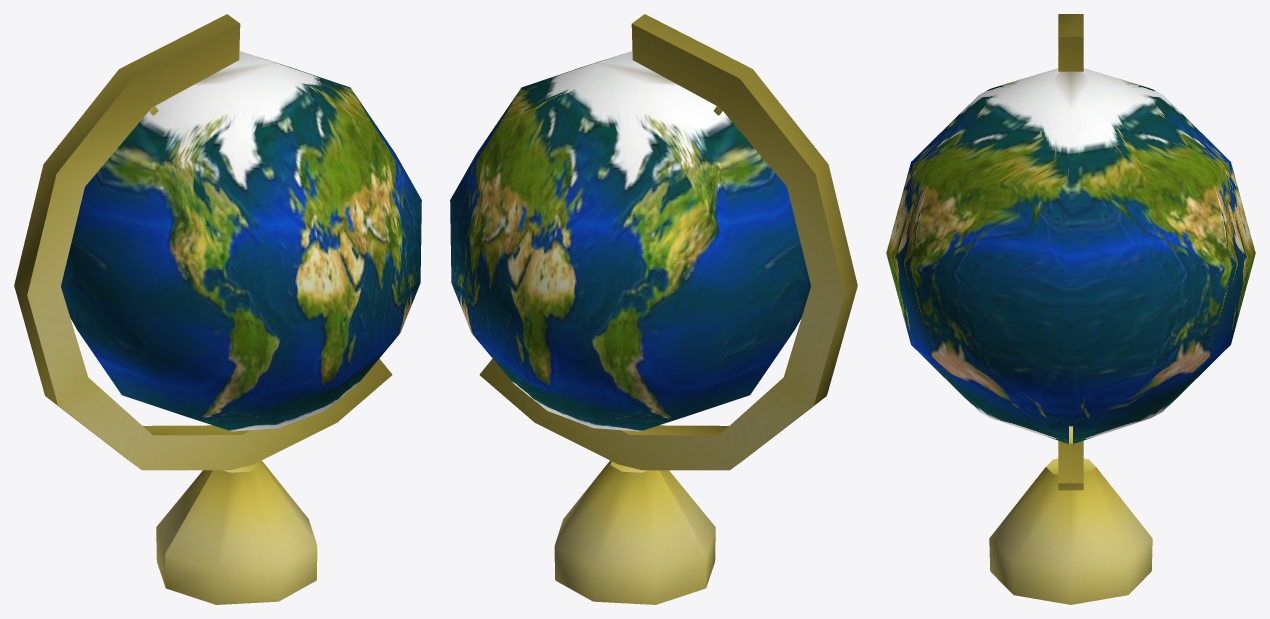
The model's file is globe.obj.
3 views of the same model, side by side, from view 1: azimuth 30°, elevation 25°; view 2: azimuth 150°, elevation 25°; view 3: azimuth 270°, elevation 25° (orthographic). The views are drawn at different scales.
Visible parts, largest first — view 1: globe; view 2: globe; view 3: globe.
Part boxes in pixels (bbox=[...]): globe: bbox=[14, 14, 421, 604]; globe: bbox=[450, 14, 857, 604]; globe: bbox=[886, 14, 1255, 604].
Bounding box in the file's own units: 28.55 × 40.03 × 25.16.
Materials: 1 (1 with a texture image).
